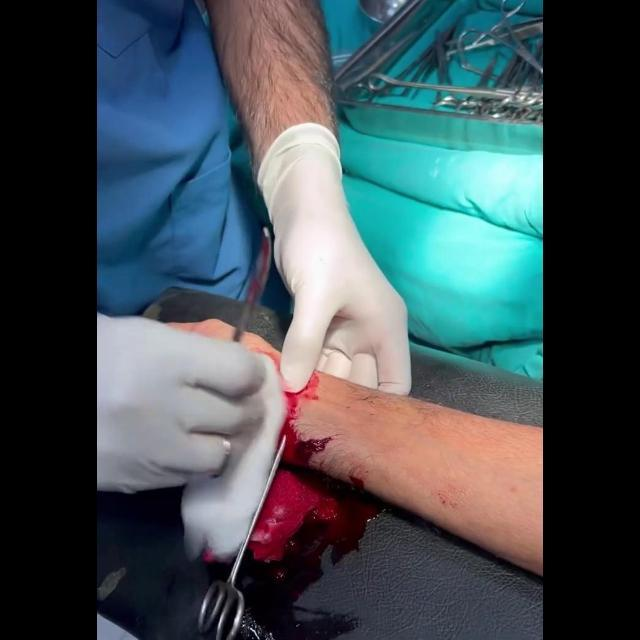blood: (238, 373, 389, 640)
